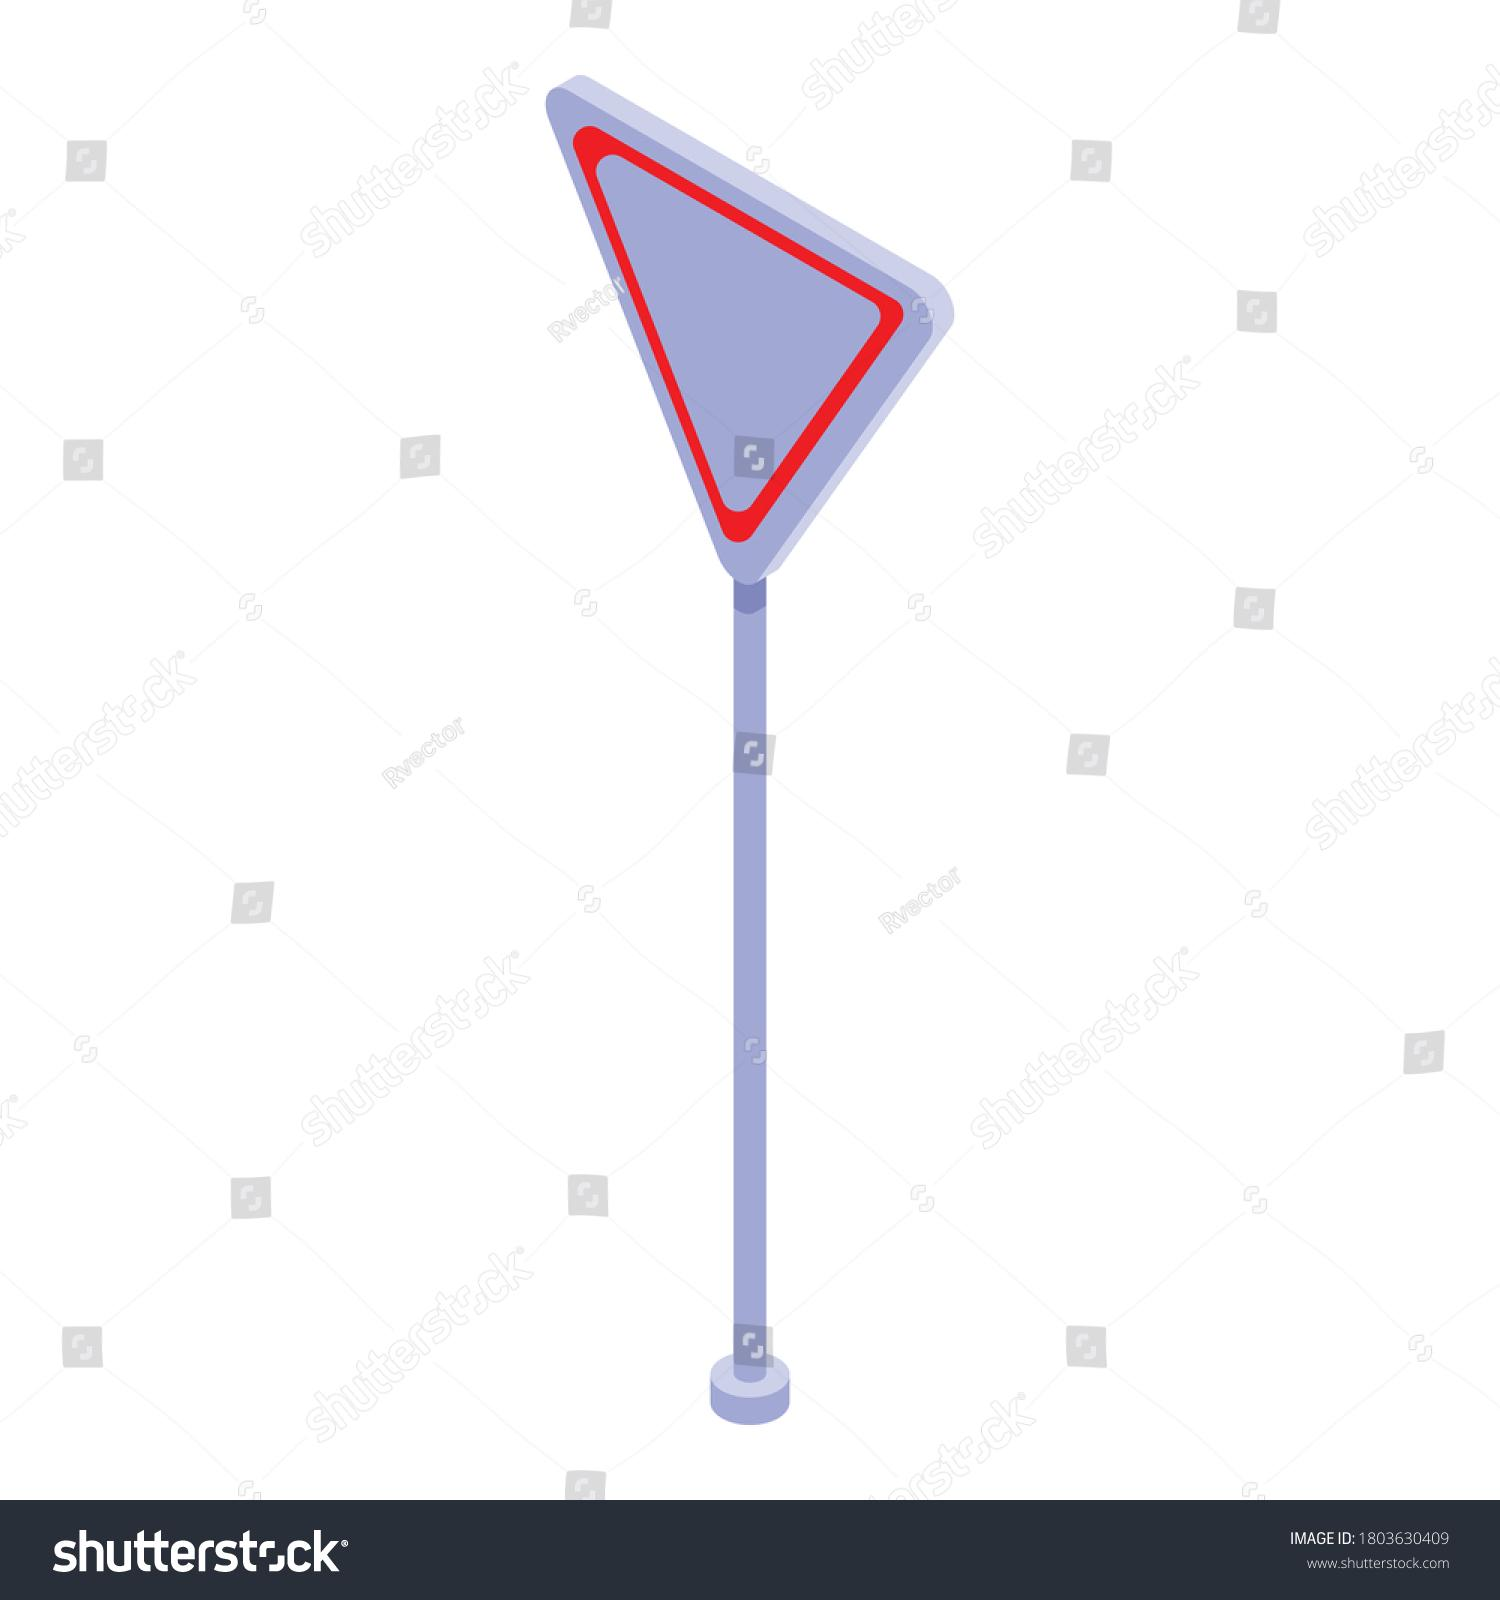Give Way: (498, 61, 1095, 617)
